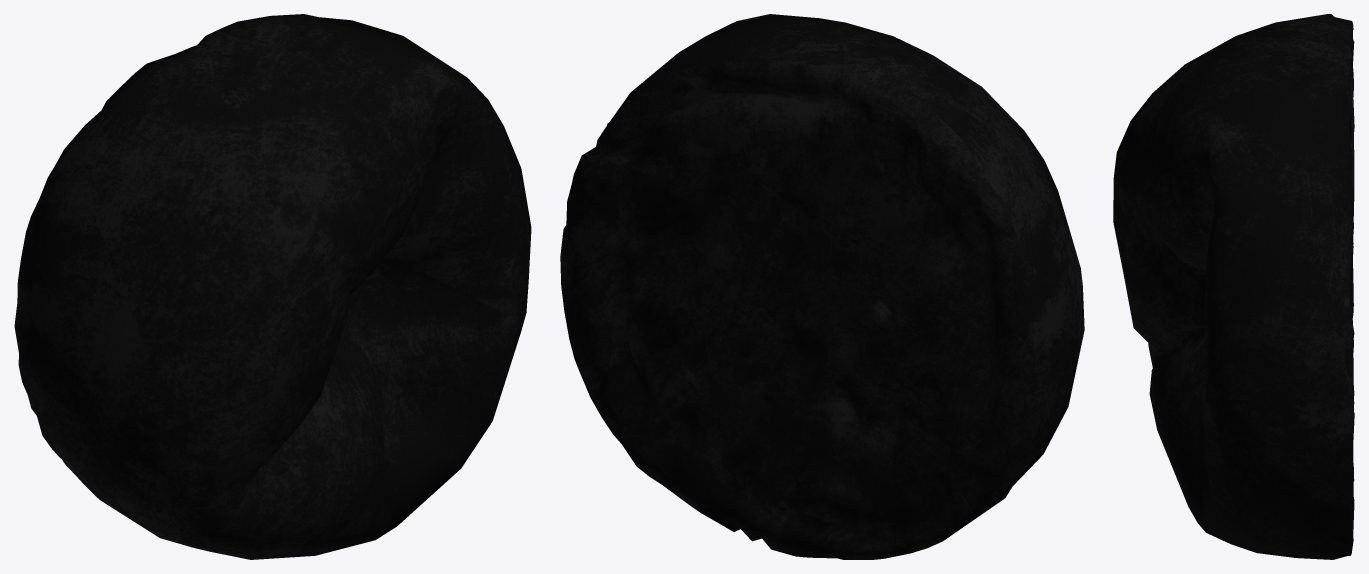
The picture shows the model from 3 angles, left to right: view 1: azimuth 30°, elevation 25°; view 2: azimuth 150°, elevation 25°; view 3: azimuth 270°, elevation 25°; orthographic projection. The views are drawn at different scales.
Parts seen in each view (by area): view 1: object_0; view 2: object_0; view 3: object_0.
Part boxes in pixels (box(x1,y1,x2,y2)): object_0: box(14, 14, 531, 559); object_0: box(560, 14, 1084, 559); object_0: box(1113, 14, 1354, 559).
Size of the model in its own units: 0.9257 by 0.9216 by 0.4162.
1 material, 1 textured.
